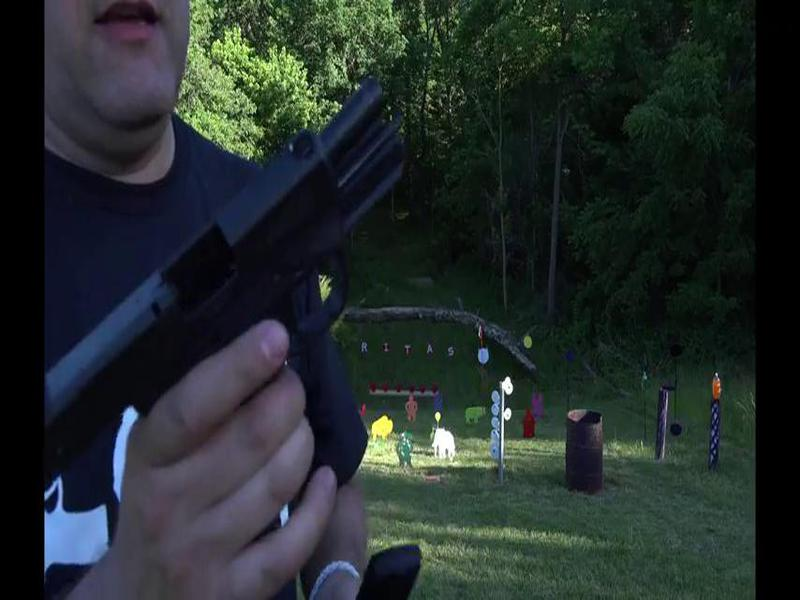Pistola: (45, 85, 417, 513)
